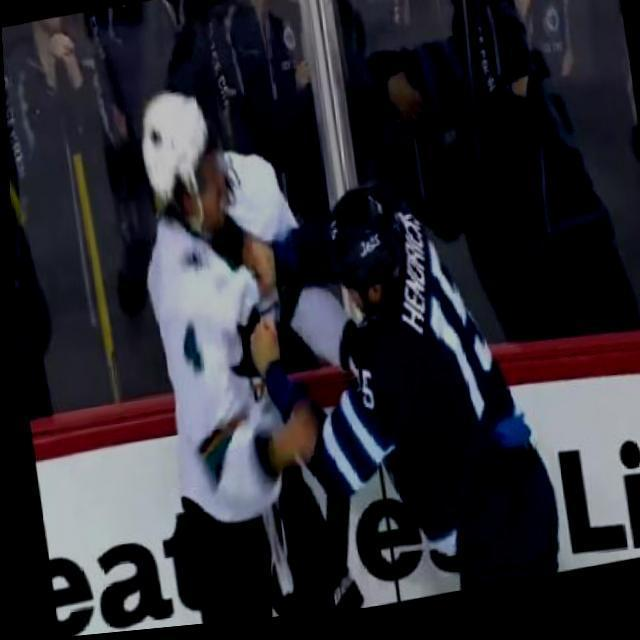fight: (115, 29, 565, 632)
